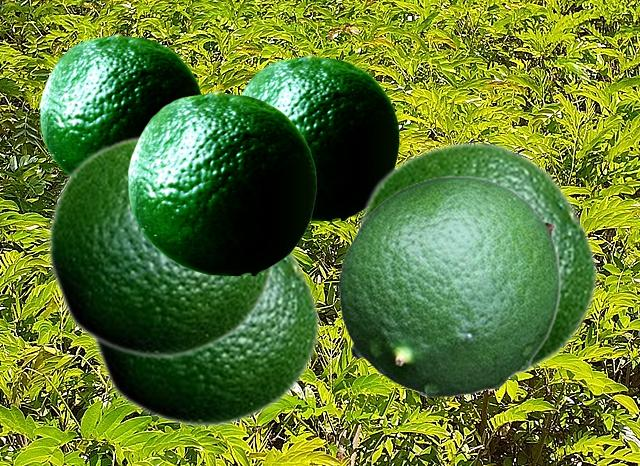calamansi: (351, 140, 598, 383), (46, 133, 274, 359), (338, 175, 560, 396), (89, 249, 320, 428), (128, 90, 315, 274), (241, 54, 398, 219), (40, 33, 202, 173)
